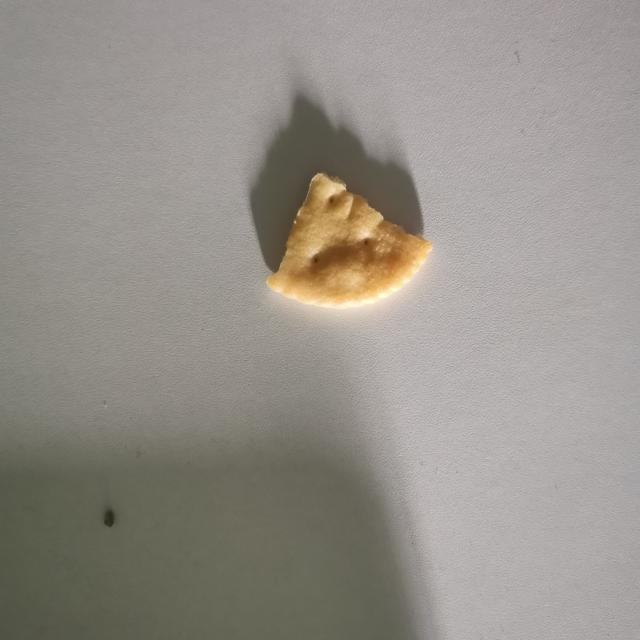Broken: (266, 171, 434, 309)
